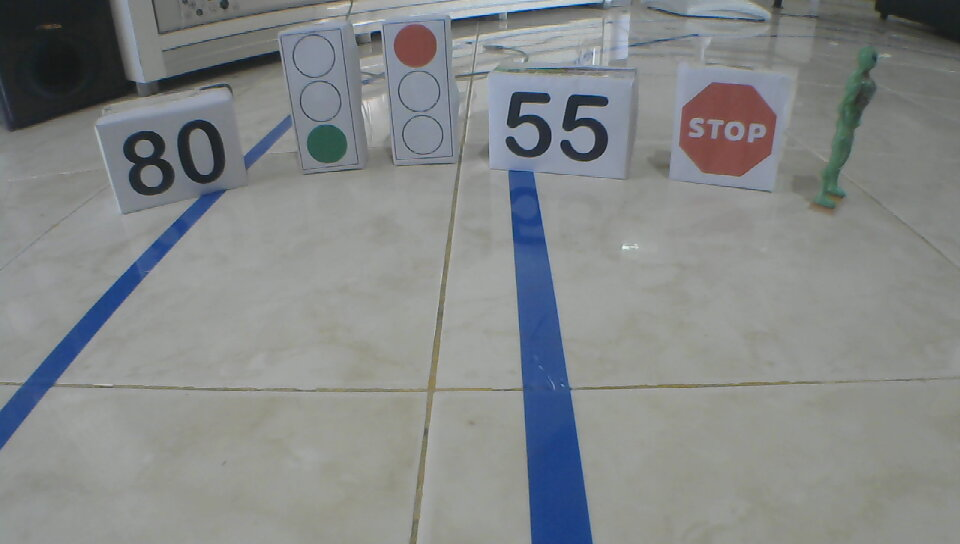Green Light: (289, 33, 349, 164)
Person: (811, 45, 884, 212)
Red Light: (390, 23, 444, 156)
Speed 55: (500, 90, 612, 166)
Speed 80: (121, 120, 227, 197)
Stop: (677, 81, 779, 180)
